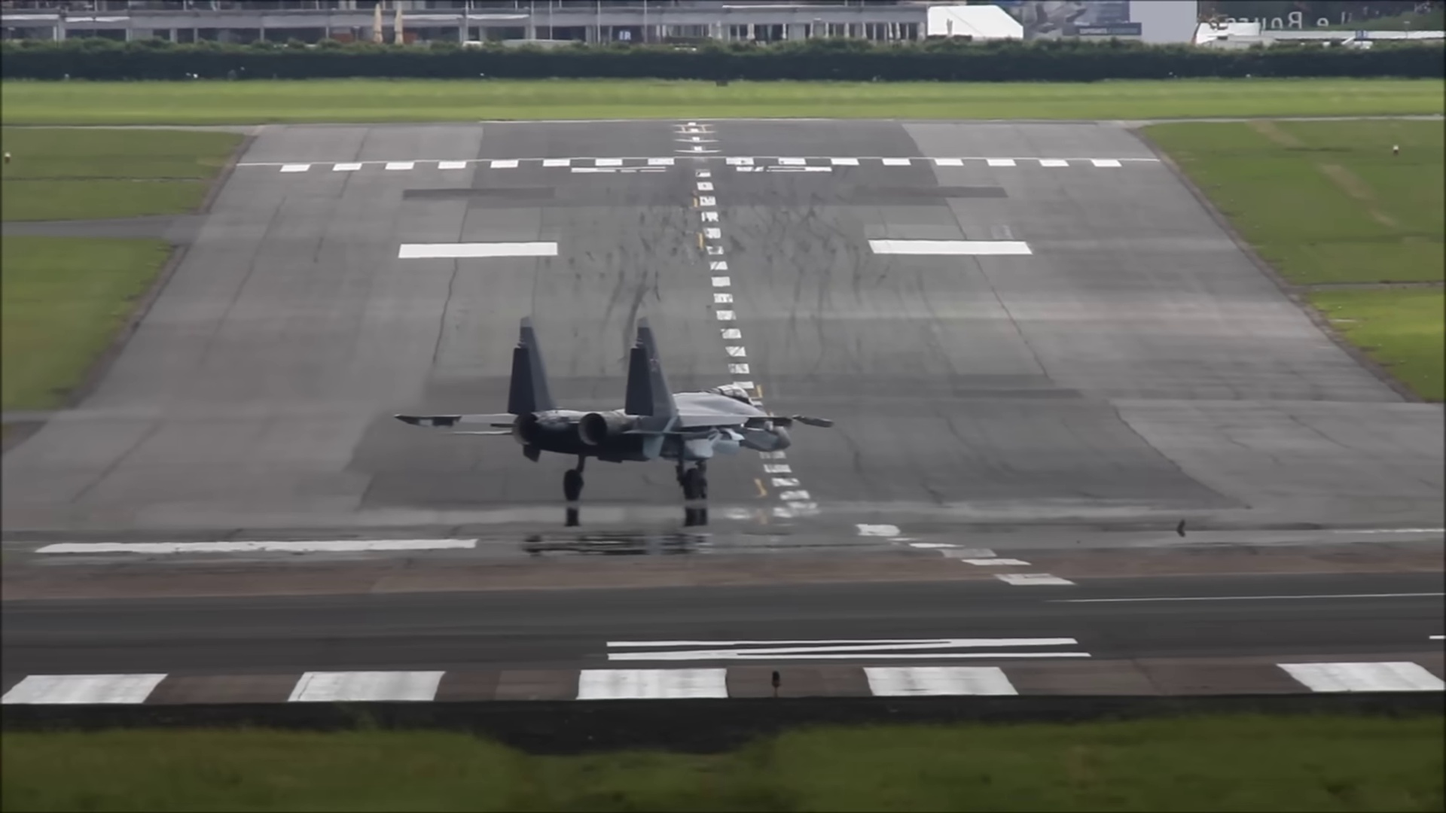Su35: (390, 311, 839, 506)
